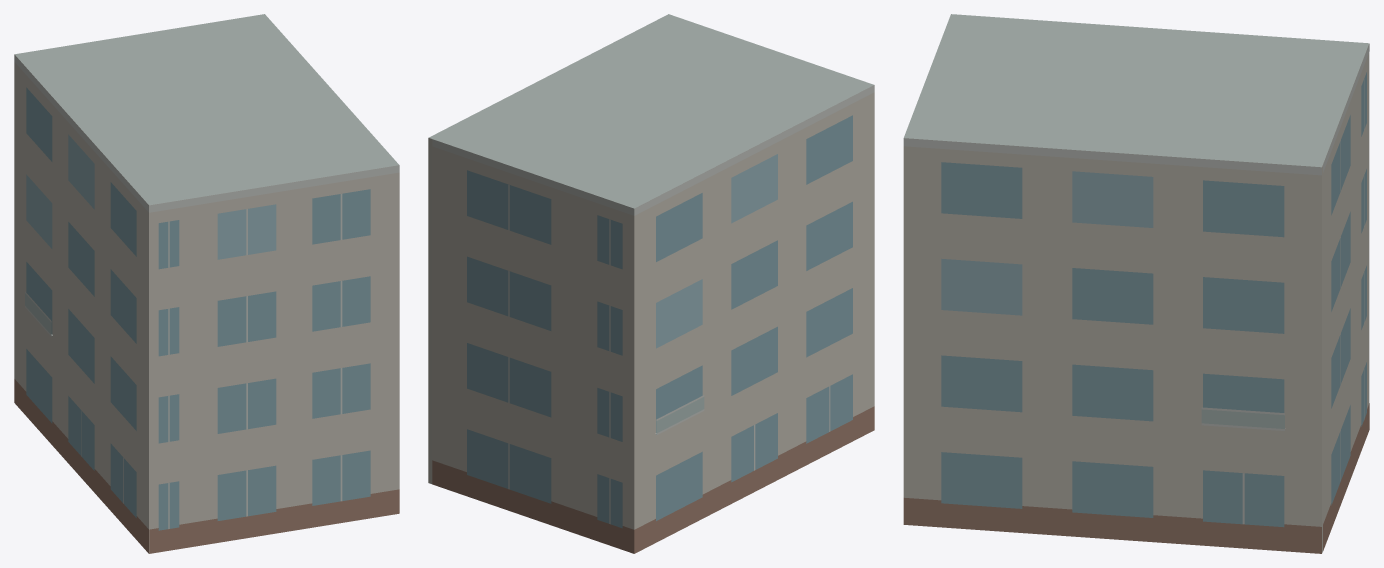
The model's file is survey-upis-32911444.glb.
3 views of the same model, side by side, from view 1: azimuth 30°, elevation 25°; view 2: azimuth 150°, elevation 25°; view 3: azimuth 270°, elevation 25° (orthographic). The views are drawn at different scales.
Parts seen in each view (by area): view 1: survey-upis-32911444.tmp; view 2: survey-upis-32911444.tmp; view 3: survey-upis-32911444.tmp.
Part boxes in pixels (bbox=[...]): survey-upis-32911444.tmp: bbox=[14, 14, 399, 553]; survey-upis-32911444.tmp: bbox=[428, 14, 874, 553]; survey-upis-32911444.tmp: bbox=[903, 14, 1369, 553].
Bounding box in the file's own units: 9.78 × 11.5 × 12.57.
